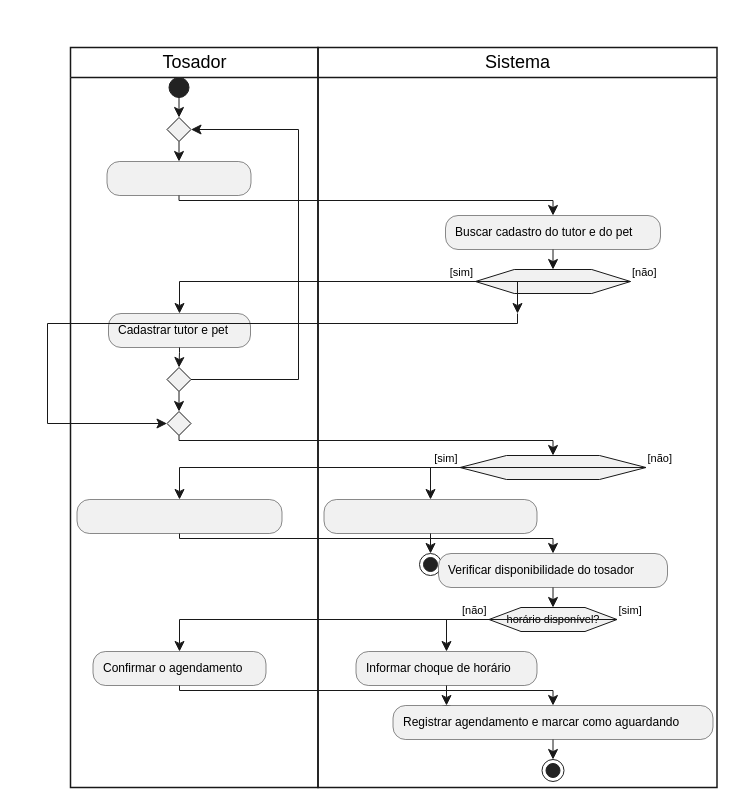
The diagram is 735 pixels wide and 805 high, and some of its shapes have lost their labels. Here are the shapes that lost their labels. From the top down, the centre of each, then its label:
point 178,178: Identificar tutor e pet
point 552,281: tutor e pet encontrados?
point 552,467: pet possui restrição de saúde?
point 179,516: Informar data, horário e serviço
point 430,516: Alertar restrição crítica de saúde
